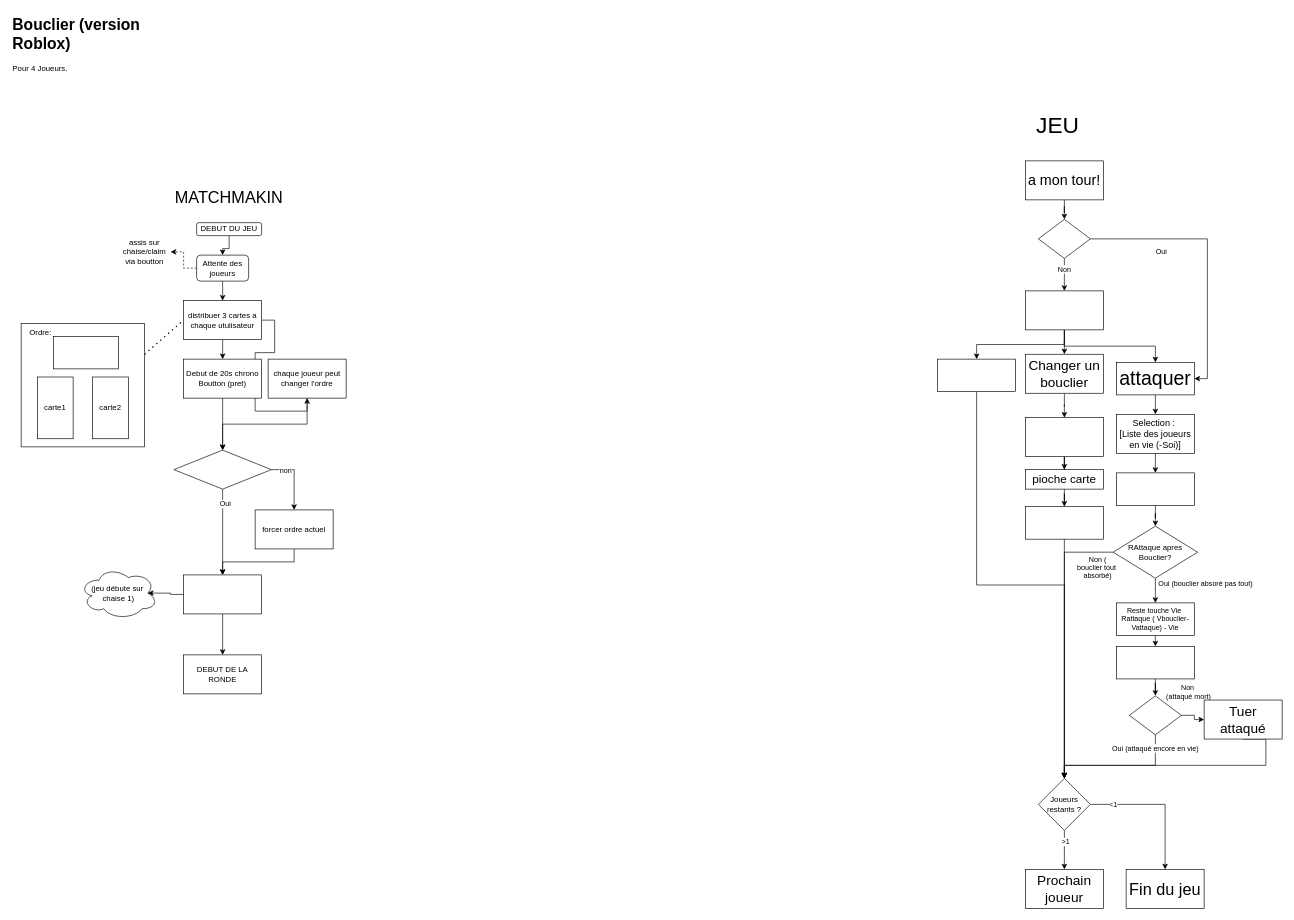
This 1294x920 diagram has some shape labels left out. Here are the shapes that lost their labels. From the top down, the centre of each, then its label:
At pixel 1064 238: "carte Chargé?".
At pixel 1064 310: "Prendre une carte".
At pixel 86 352: "carte3 ( bouclier)".
At pixel 976 375: "charger".
At pixel 1064 437: "Selection : [Liste des joueurs en vie (+Soi)]".
At pixel 222 469: "Tous pret avant la fin ?".
At pixel 1155 488: "Bouclier Defendo ( attaque-Bouclier Attaqué)".
At pixel 1064 522: "changement du bouclier".
At pixel 222 594: "dévoiler les cartes".
At pixel 1155 662: "Update Cartes".
At pixel 1155 715: "Vie restante >0".
